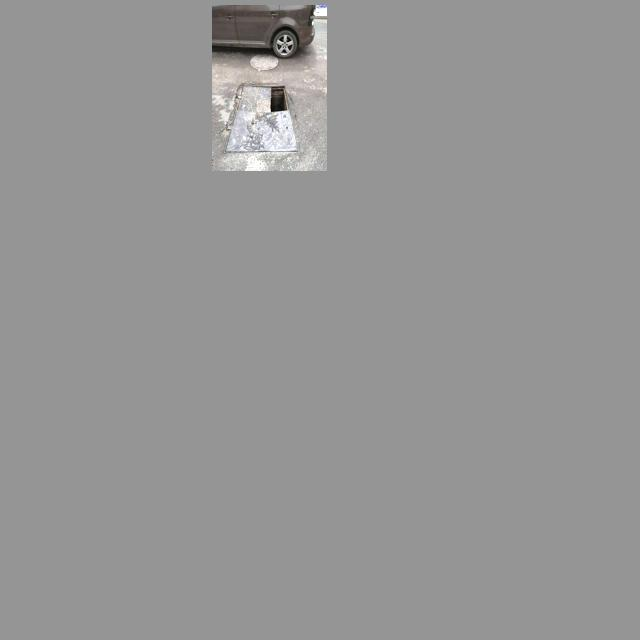lose: (221, 79, 301, 157)
